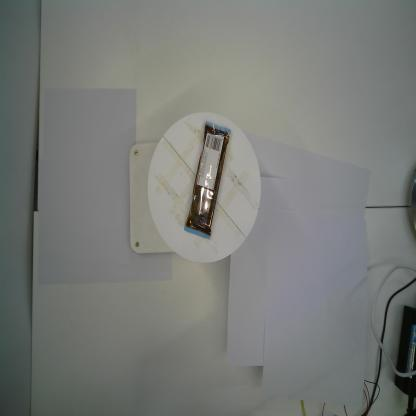Chocolate: (183, 120, 232, 242)
